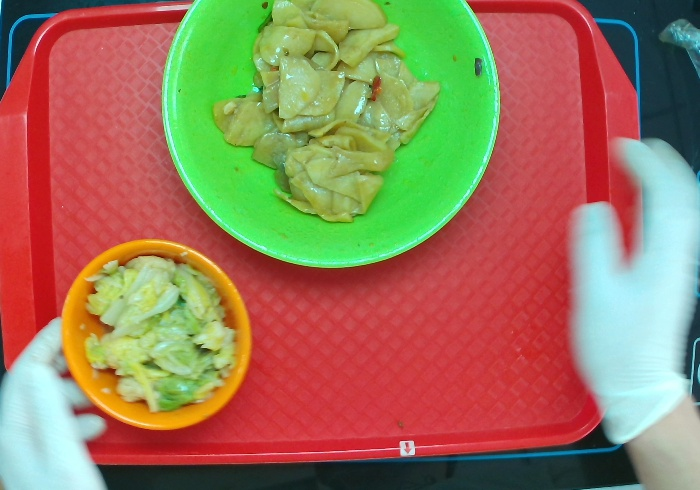YKMZ-Ju_Se_Yuan_Wan: (56, 230, 264, 431)
YKMZ-Lv_Se_Tang_Wan: (156, 1, 503, 275)
